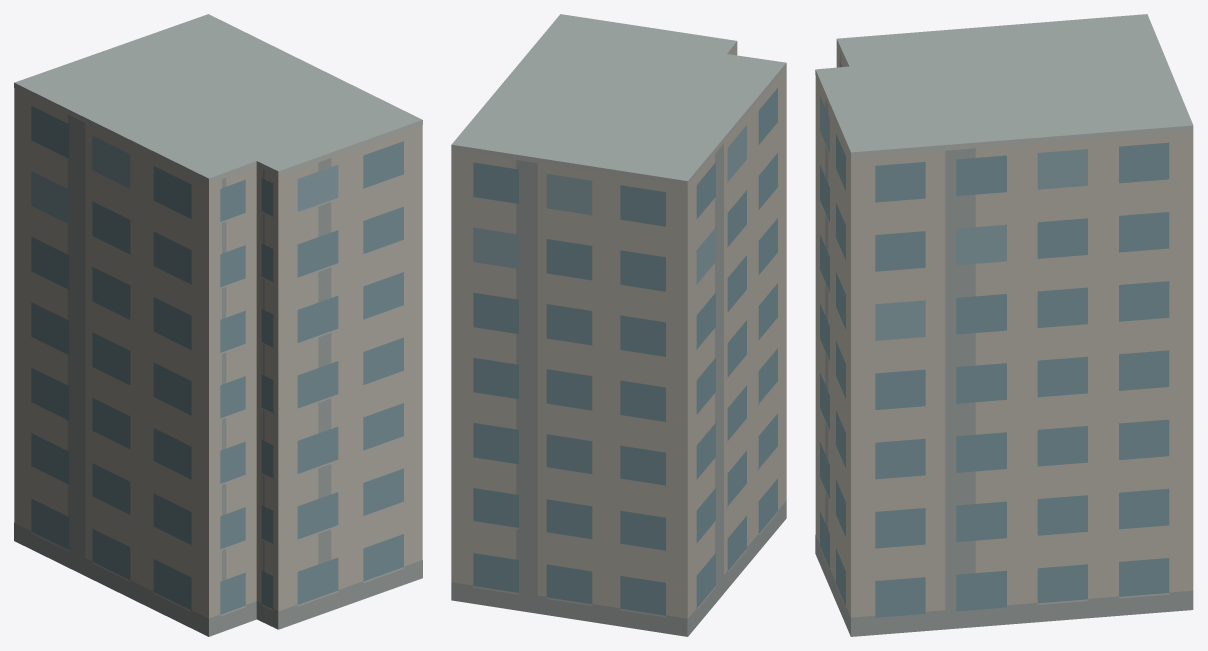
Rendered from survey-upis-32838969.glb.
3 renders of one model, left to right at view 1: azimuth 30°, elevation 25°; view 2: azimuth 150°, elevation 25°; view 3: azimuth 270°, elevation 25°, orthographic. The views are drawn at different scales.
Parts seen in each view (by area): view 1: survey-upis-32838969.tmp; view 2: survey-upis-32838969.tmp; view 3: survey-upis-32838969.tmp.
Boxes of the visible parts, <box> form: survey-upis-32838969.tmp: <box>14,14,422,636</box>; survey-upis-32838969.tmp: <box>451,14,786,636</box>; survey-upis-32838969.tmp: <box>815,14,1193,636</box>.
Bounding box in the file's own units: 12.79 × 20.85 × 14.75.
